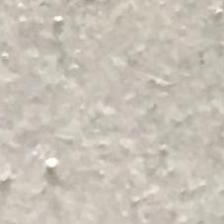Non_Crack: (23, 23, 224, 212)
